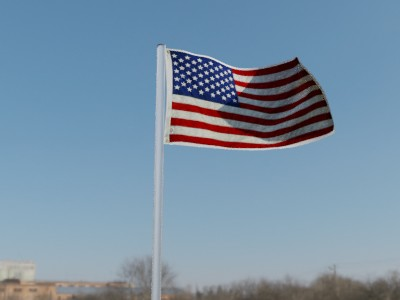America flag: (163, 45, 339, 151)
